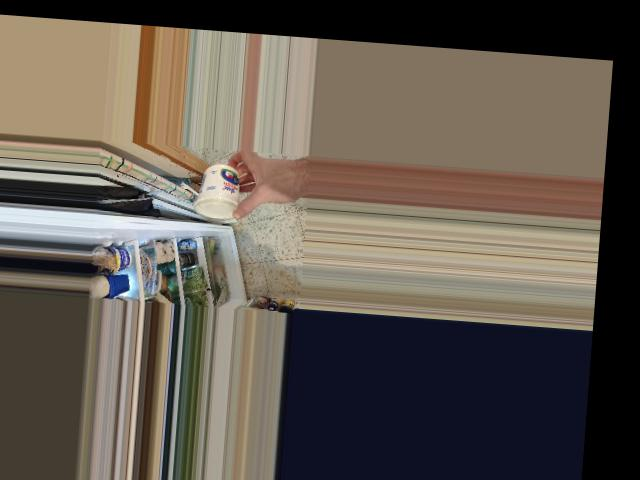cotage: (195, 158, 240, 220)
